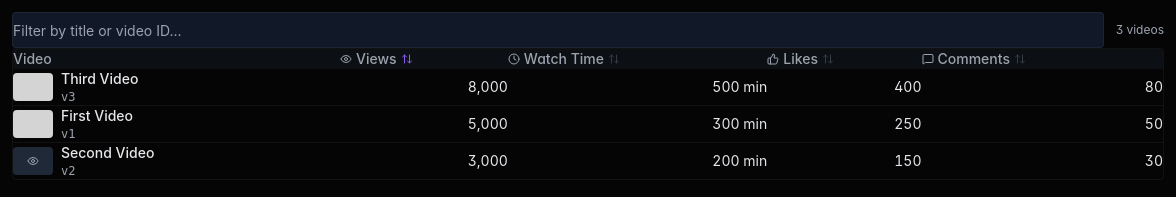
Test: VideoPerformanceTable › shows empty state when no matches
The width and height of the screenshot is (1176, 197).
Type "nonexistent" into the field with placeholder "Filter by title or video ID..." at (558, 30), box [12,12,1104,48]
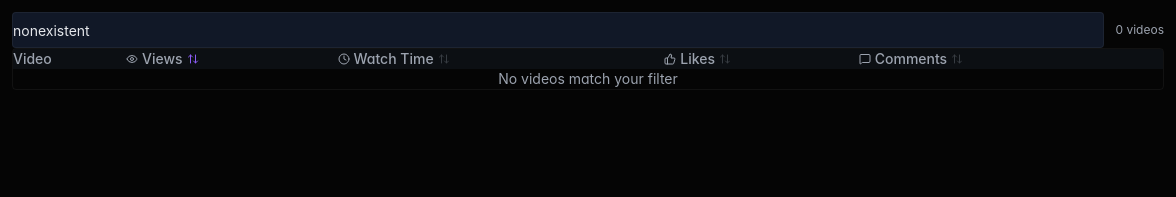
Result: the text "No videos match your filter" is shown at [13,69,1163,89]
